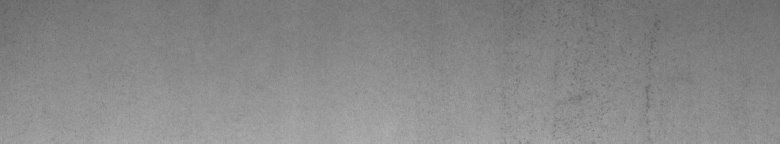ib: (569, 20, 660, 111)
